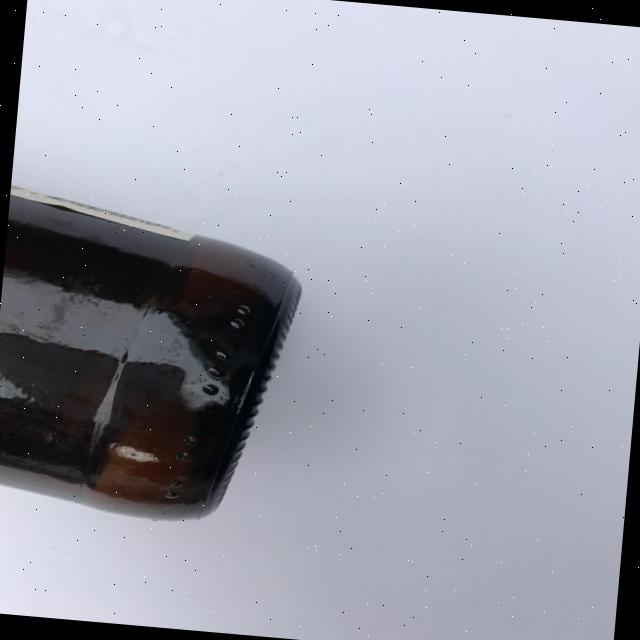glass: (0, 184, 309, 531)
